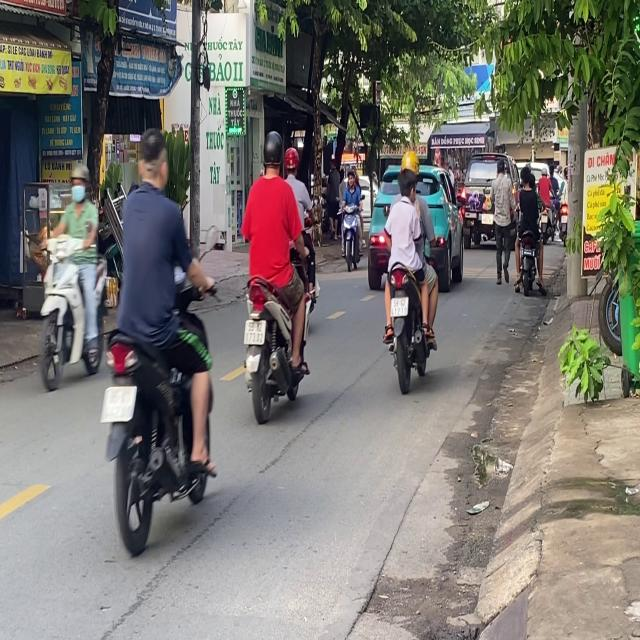helmet: (260, 129, 284, 173), (398, 150, 419, 188), (69, 166, 88, 204), (282, 145, 298, 174)
licenseplate: (97, 125, 221, 554), (238, 128, 315, 421), (37, 164, 106, 389), (378, 148, 439, 389)
motorcyclist: (134, 128, 169, 190), (399, 168, 418, 209)
nohelmet: (101, 385, 136, 420), (244, 319, 265, 344), (391, 297, 408, 316)
